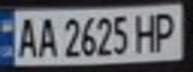2: (93, 12, 115, 57), (60, 14, 81, 58)
5: (112, 11, 133, 55)
6: (78, 12, 100, 59)
A: (33, 13, 60, 60), (12, 14, 39, 58)
H: (133, 10, 163, 54)
P: (151, 8, 184, 53)
